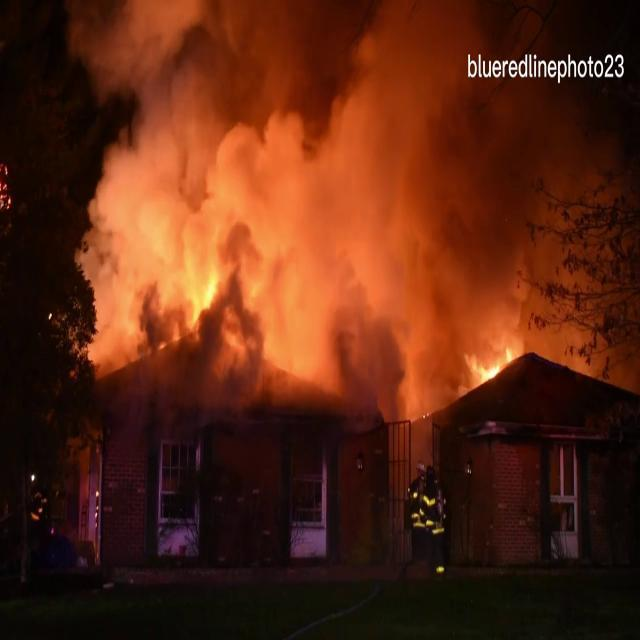Fire: (456, 330, 534, 392)
Smoke: (50, 0, 634, 406)
